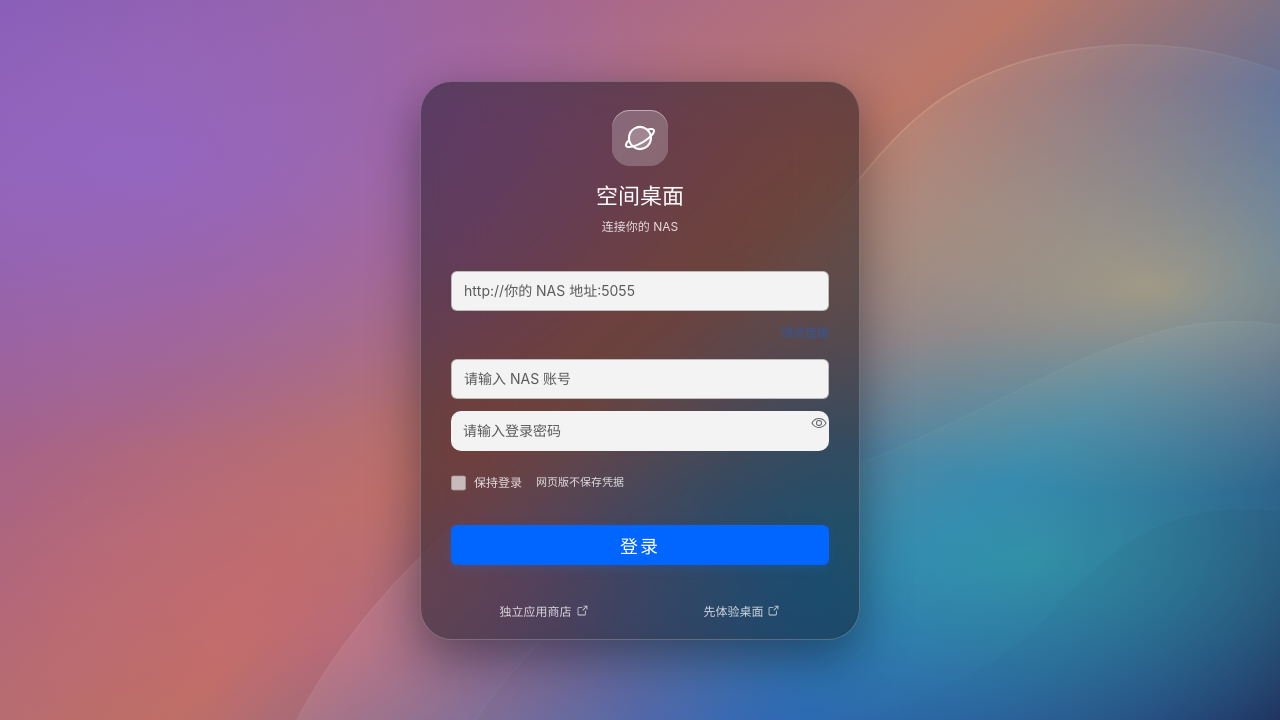
Test: shows a failed official connection without entering a fake desktop
This screenshot has width=1280, height=720.
In the field named "设备地址": (640, 290) [451,270,829,310], type "http://synthetic.invalid:5055"
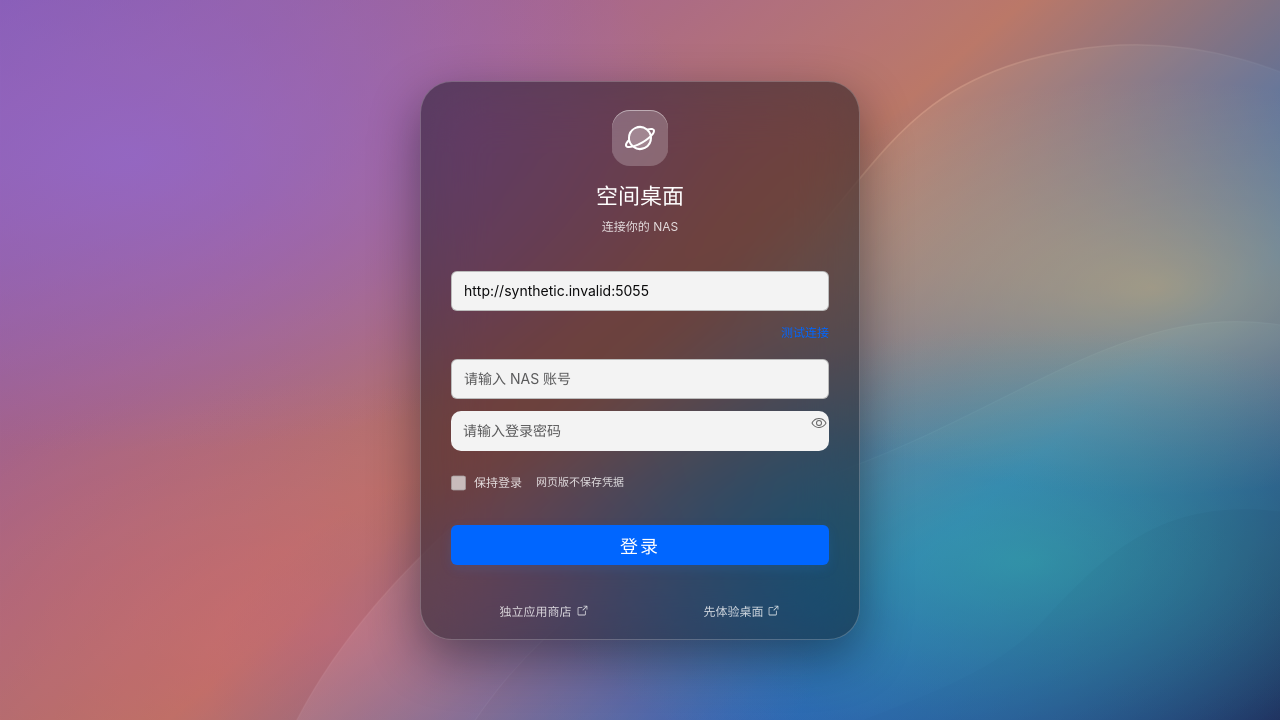
In the field labelled "账号": (640, 378) [451,358,829,398], type "fixture"
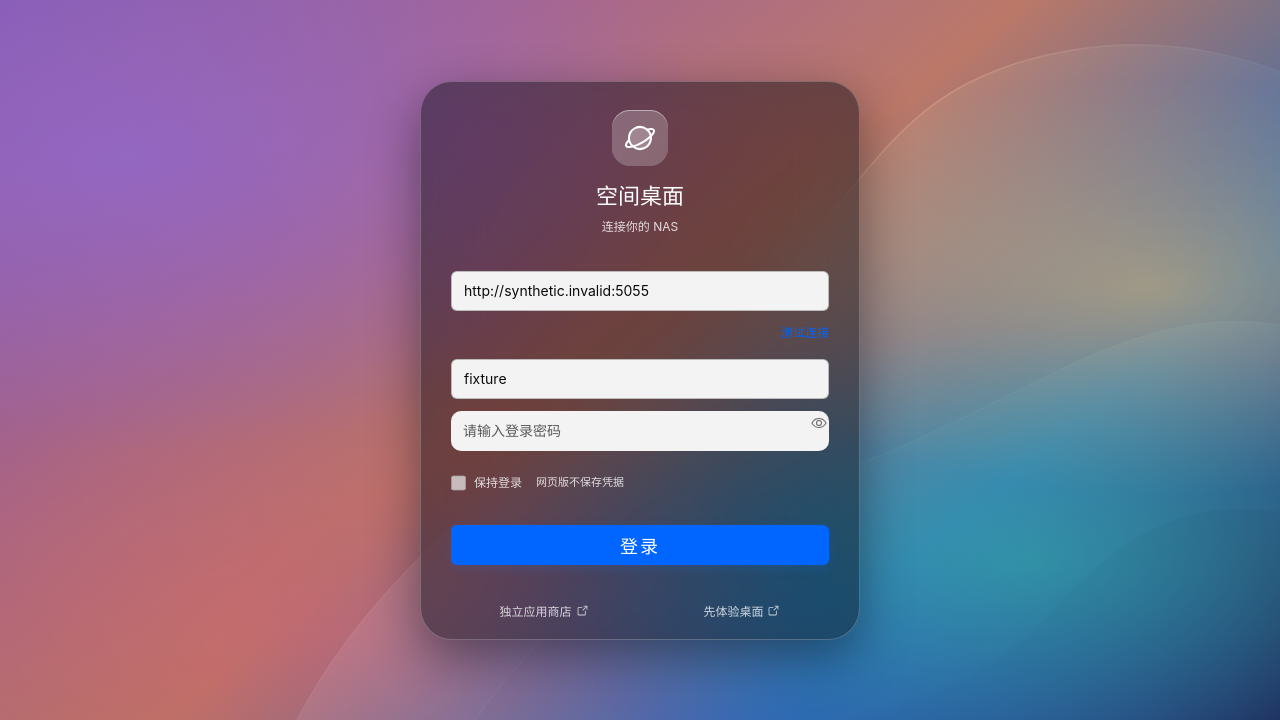
In the password field labelled "密码": (635, 430) [451,410,819,450], type "synthetic-only"
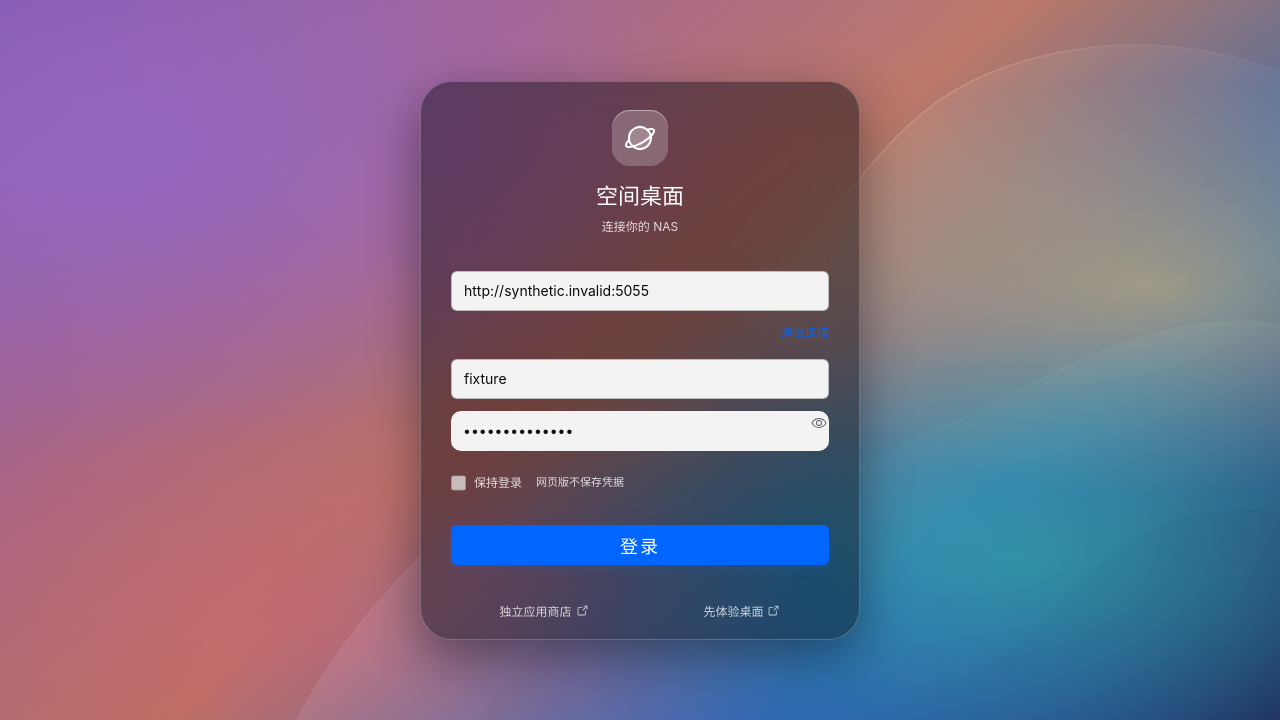
Click the button "登录": (640, 544) [451,524,829,564]
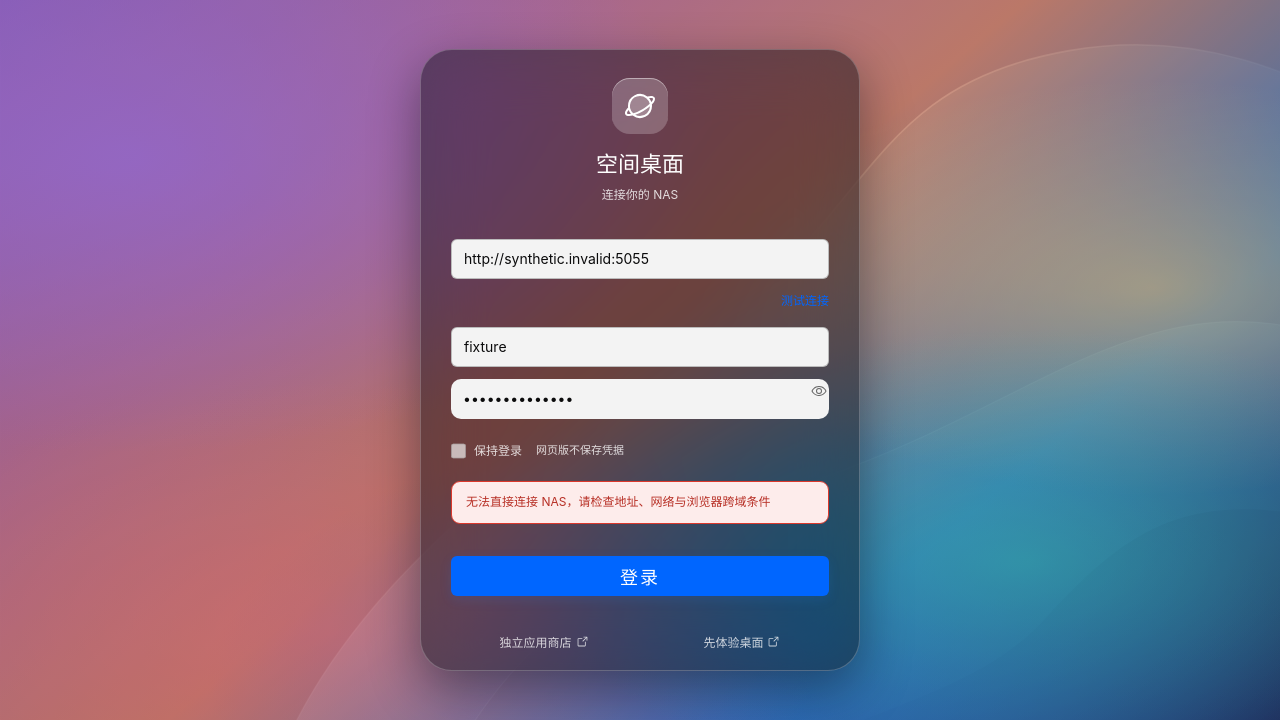
Result: the message "无法直接连接 NAS，请检查地址、网络与浏览器跨域条件" is shown at [451,481,829,524]
